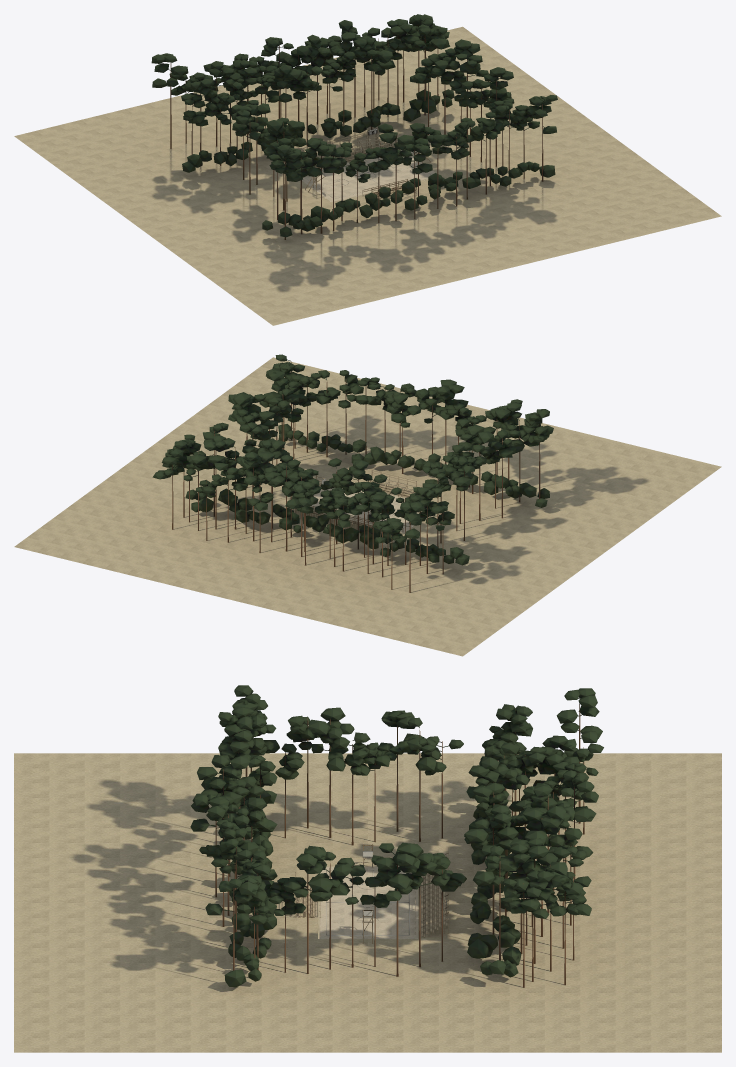
File: naismith-berlin-1936.glb
3 views of the same model, one above another, from view 1: azimuth 30°, elevation 25°; view 2: azimuth 150°, elevation 25°; view 3: azimuth 270°, elevation 25° (orthographic). The views are drawn at different scales.
Parts seen in each view (by area): view 1: ground, pine_crowns, understory, pine_trunks, artifact_court, artifact_main_stand; view 2: ground, pine_crowns, understory, pine_trunks, artifact_court; view 3: ground, pine_crowns, understory, pine_trunks, artifact_court, artifact_main_stand.
Part boxes in pixels (x1,y1,x2,y2): ground: (14,26,721,325); pine_crowns: (151,14,557,182); understory: (182,89,555,237); pine_trunks: (170,24,543,239); artifact_court: (302,150,435,202); artifact_main_stand: (285,129,398,168); ground: (14,357,721,656); pine_crowns: (152,354,553,543); understory: (185,424,549,565); pine_trunks: (172,362,540,592); artifact_court: (310,487,422,533); ground: (14,753,721,1052); pine_crowns: (190,685,603,924); understory: (224,785,521,987); pine_trunks: (215,703,584,987); artifact_court: (318,866,417,938); artifact_main_stand: (415,847,448,936).
Size of what is drawn, in the model's own units: 120 by 24.96 by 120.
3 materials, 2 textured.
